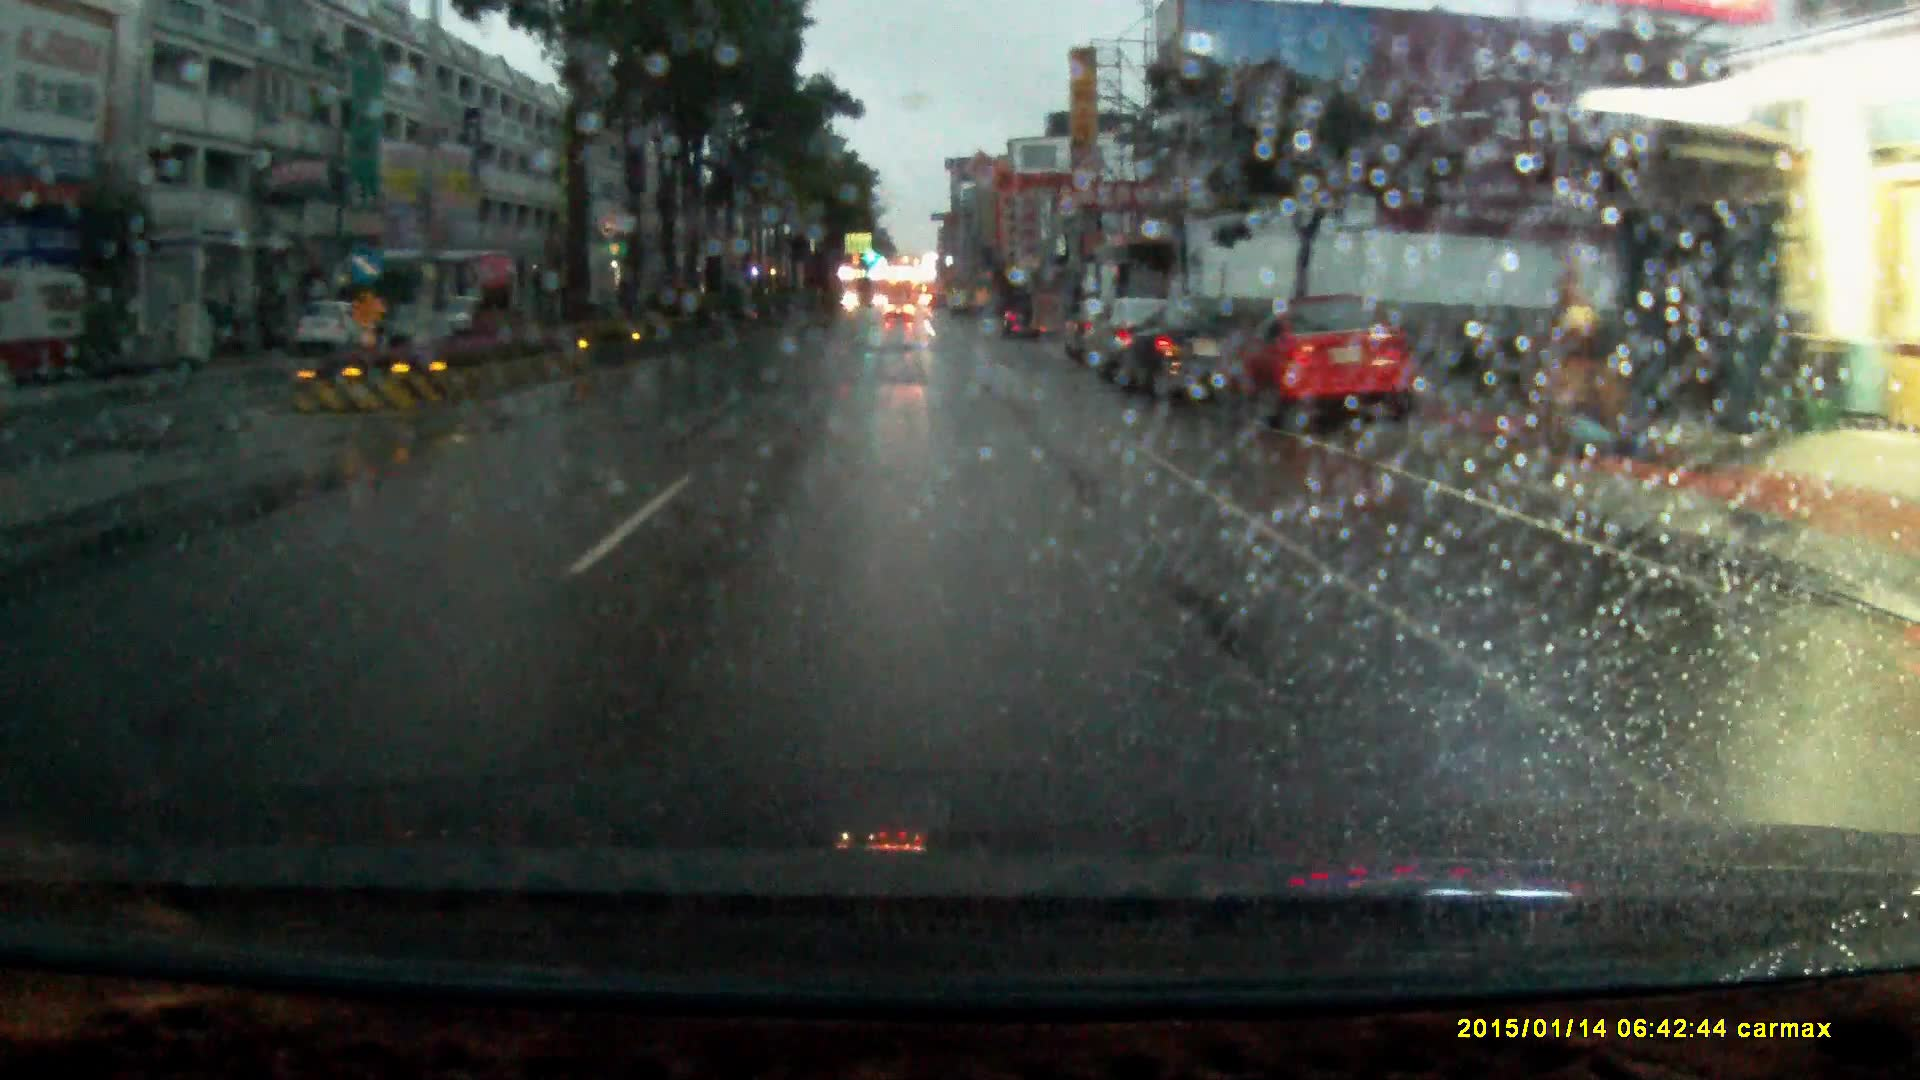vehicle: (1230, 301, 1419, 433), (1113, 301, 1251, 411), (1085, 301, 1172, 381), (413, 295, 513, 342), (297, 301, 376, 359), (996, 291, 1054, 344), (1062, 301, 1109, 361), (884, 299, 918, 328)
